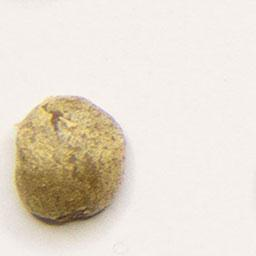premium: (12, 90, 130, 228)
